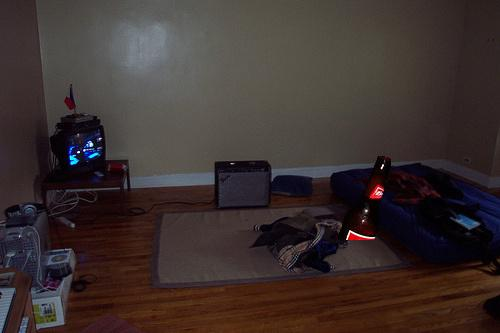tampered: (338, 157, 391, 240)
